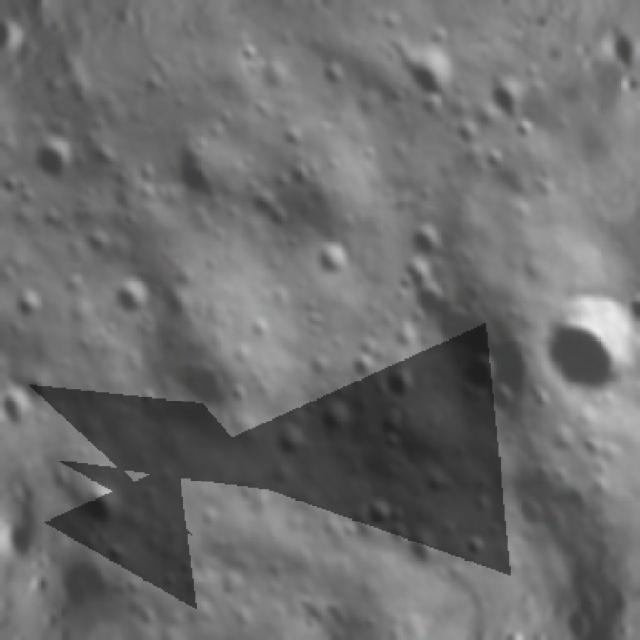crater: (523, 269, 640, 417), (147, 329, 256, 448), (394, 33, 468, 112), (65, 473, 128, 539), (396, 270, 466, 328), (19, 125, 84, 187), (104, 268, 165, 329), (479, 72, 539, 134), (306, 238, 365, 296), (394, 518, 452, 576), (505, 484, 558, 545), (169, 152, 223, 211), (375, 356, 422, 410), (456, 342, 506, 392), (481, 376, 528, 429), (354, 486, 400, 536), (404, 218, 450, 267), (6, 282, 54, 328), (321, 615, 399, 640), (456, 528, 492, 567), (0, 164, 26, 204), (418, 600, 458, 625), (535, 556, 573, 576), (624, 286, 640, 331), (262, 637, 322, 640), (635, 365, 640, 400)
